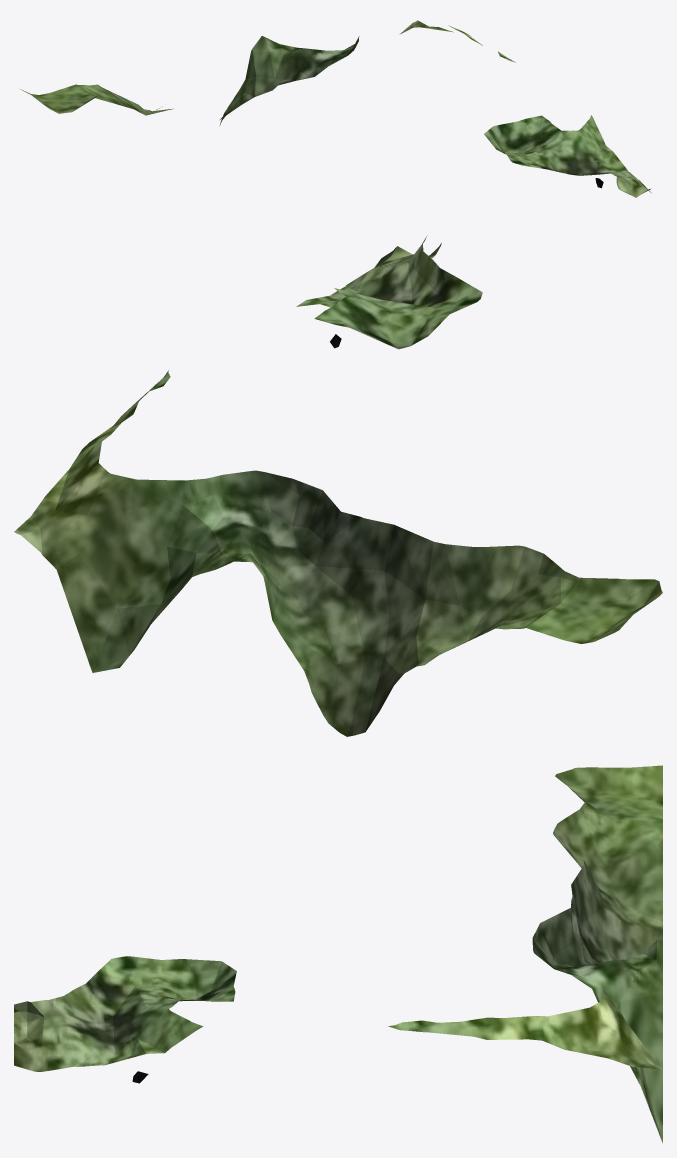
The picture shows the model from 3 angles, top to bottom: view 1: azimuth 30°, elevation 25°; view 2: azimuth 150°, elevation 25°; view 3: azimuth 270°, elevation 25°; orthographic projection. The views are drawn at different scales.
Bounding box in the file's own units: 2.8 × 0.7659 × 2.95.
Materials: 1 (1 with a texture image).
